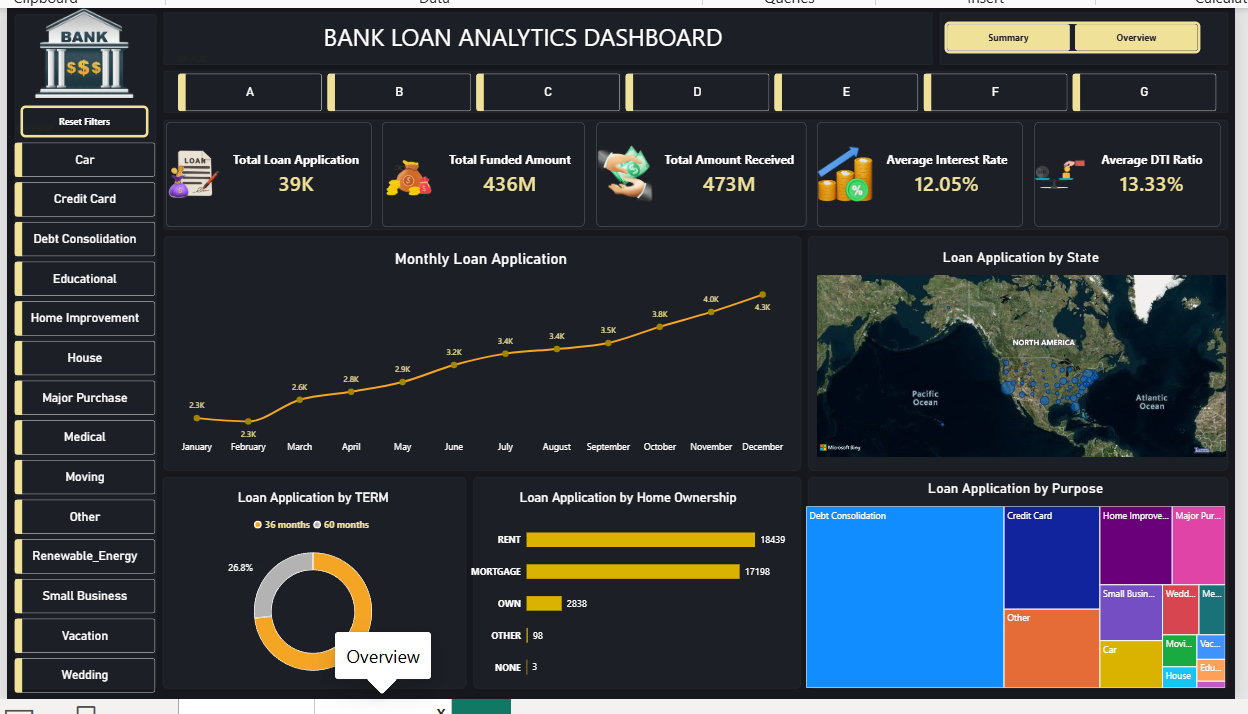

What the dashboard file says about the page in this screenshot:
{"tool":"powerbi","page":{"name":"Overview","canvas":[1920,1080],"ordinal":1},"visuals":[{"type":"cardVisual","fields":{"Data":["financial_loan.Total Loan Application"]},"box":[248.5,178.2,321.2,164.1],"z":0},{"type":"cardVisual","fields":{"Data":["financial_loan.Average DTI Ratio"]},"box":[1606,178.2,290.7,164.1],"z":1000},{"type":"cardVisual","fields":{"Data":["financial_loan.Total Funded Amount"]},"box":[586.1,178.2,316.5,164.1],"z":2000},{"type":"cardVisual","fields":{"Data":["financial_loan.Average Interest Rate"]},"box":[1266,178.2,321.2,164.1],"z":3000},{"type":"cardVisual","fields":{"Data":["financial_loan.Total Amount Received"]},"box":[921.4,178.2,328.2,164.1],"z":4000},{"type":"image","box":[0,0,241.5,140.7],"z":5000},{"type":"advancedSlicerVisual","fields":{"Values":["financial_loan.PURPOSE"]},"box":[11.7,178.2,220.4,902.6],"z":6000},{"type":"advancedSlicerVisual","fields":{"Values":["financial_loan.GRADE"]},"box":[267.3,70.3,1629.4,91.4],"z":7000},{"type":"actionButton","box":[21.1,152.4,200,50],"z":8000},{"type":"textbox","box":[494.7,18.8,640,70.3],"z":9000},{"type":"pageNavigator","box":[1465.3,21.1,400,50],"z":10000},{"type":"lineChart","title":"Monthly Loan Application ","fields":{"Category":["financial_loan.ISSUE_DATE.Variation.Date Hierarchy.Month"],"Y":["financial_loan.Total Loan Application"]},"box":[248.5,363.4,984.7,354],"z":11000},{"type":"donutChart","title":" Loan Application by TERM","fields":{"Category":["financial_loan.TERM"],"Y":["financial_loan.Total Loan Application"]},"box":[248.5,738.5,459.5,342.3],"z":12000},{"type":"clusteredBarChart","title":"Loan Application by Home Ownership","fields":{"Category":["financial_loan.HOME_OWNERSHIP"],"Y":["financial_loan.Total Loan Application"]},"box":[709,739,525,341],"z":13000},{"type":"treemap","title":" Loan Application by Purpose","fields":{"Values":["financial_loan.Total Loan Application"],"Group":["financial_loan.PURPOSE"]},"box":[1233.2,724.4,686.9,354],"z":13001},{"type":"map","title":" Loan Application by State","fields":{"Category":["financial_loan.ADDRESS_STATE"],"Size":["financial_loan.Total Loan Application"]},"box":[1249.6,363.4,670.5,354],"z":13002}]}

Visuals, with their boxes on the page's 1920x1080 design canvas (x1, y1, x2, y2). These are canvas units, not pixel positions in the 1248x714 screenshot, which may show the page scaled, cropped or inside an application window:
cardVisual - financial_loan.Total Loan Application: {"x1": 248, "y1": 178, "x2": 570, "y2": 342}
cardVisual - financial_loan.Average DTI Ratio: {"x1": 1606, "y1": 178, "x2": 1897, "y2": 342}
cardVisual - financial_loan.Total Funded Amount: {"x1": 586, "y1": 178, "x2": 903, "y2": 342}
cardVisual - financial_loan.Average Interest Rate: {"x1": 1266, "y1": 178, "x2": 1587, "y2": 342}
cardVisual - financial_loan.Total Amount Received: {"x1": 921, "y1": 178, "x2": 1250, "y2": 342}
image: {"x1": 0, "y1": 0, "x2": 242, "y2": 141}
advancedSlicerVisual - financial_loan.PURPOSE: {"x1": 12, "y1": 178, "x2": 232, "y2": 1081}
advancedSlicerVisual - financial_loan.GRADE: {"x1": 267, "y1": 70, "x2": 1897, "y2": 162}
actionButton: {"x1": 21, "y1": 152, "x2": 221, "y2": 202}
textbox: {"x1": 495, "y1": 19, "x2": 1135, "y2": 89}
pageNavigator: {"x1": 1465, "y1": 21, "x2": 1865, "y2": 71}
"Monthly Loan Application " lineChart: {"x1": 248, "y1": 363, "x2": 1233, "y2": 717}
" Loan Application by TERM" donutChart: {"x1": 248, "y1": 738, "x2": 708, "y2": 1081}
"Loan Application by Home Ownership" clusteredBarChart: {"x1": 709, "y1": 739, "x2": 1234, "y2": 1080}
" Loan Application by Purpose" treemap: {"x1": 1233, "y1": 724, "x2": 1920, "y2": 1078}
" Loan Application by State" map: {"x1": 1250, "y1": 363, "x2": 1920, "y2": 717}
